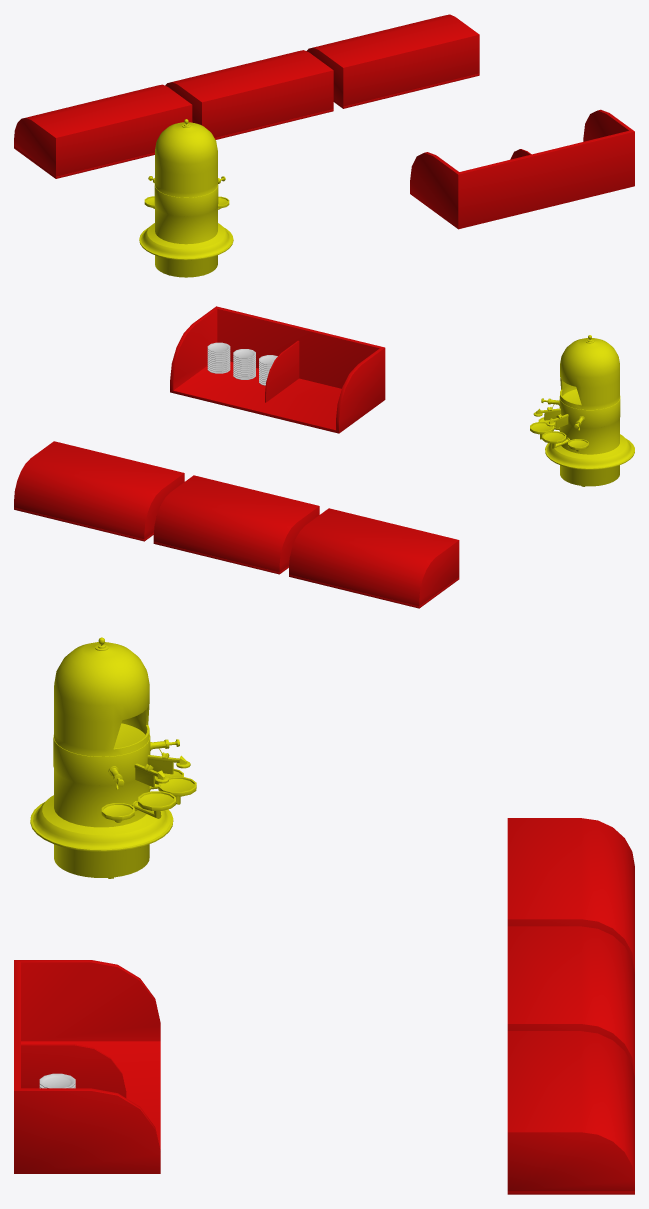
Rendered from SmallObjects.fbx.
3 renders of one model, top to bottom at view 1: azimuth 30°, elevation 25°; view 2: azimuth 150°, elevation 25°; view 3: azimuth 270°, elevation 25°, orthographic. The views are drawn at different scales.
Parts seen in each view (by area): view 1: Maquina de cafe; view 2: Maquina de cafe; view 3: Maquina de cafe.
Part boxes in pixels (left/top/right/bottom): Maquina de cafe: left=14, top=14, right=634, bottom=277; Maquina de cafe: left=14, top=306, right=634, bottom=608; Maquina de cafe: left=14, top=637, right=634, bottom=1194.
Bounding box in the file's own units: 2077 × 673 × 1573.
